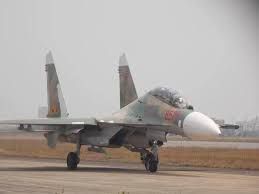maybay_muctieu: (4, 44, 217, 187)
